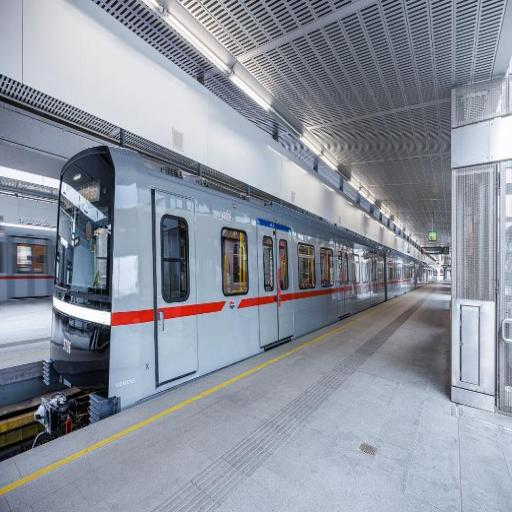X-Wagen: (34, 145, 436, 430)
